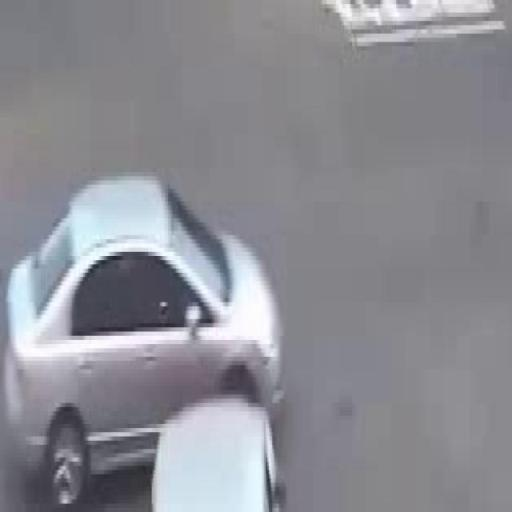小汽车撞小汽车: (9, 172, 284, 510)
